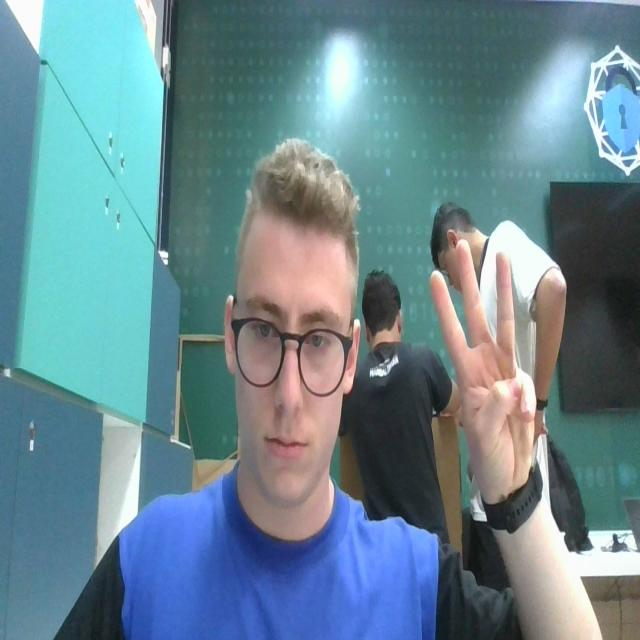W: (431, 236, 537, 502)
